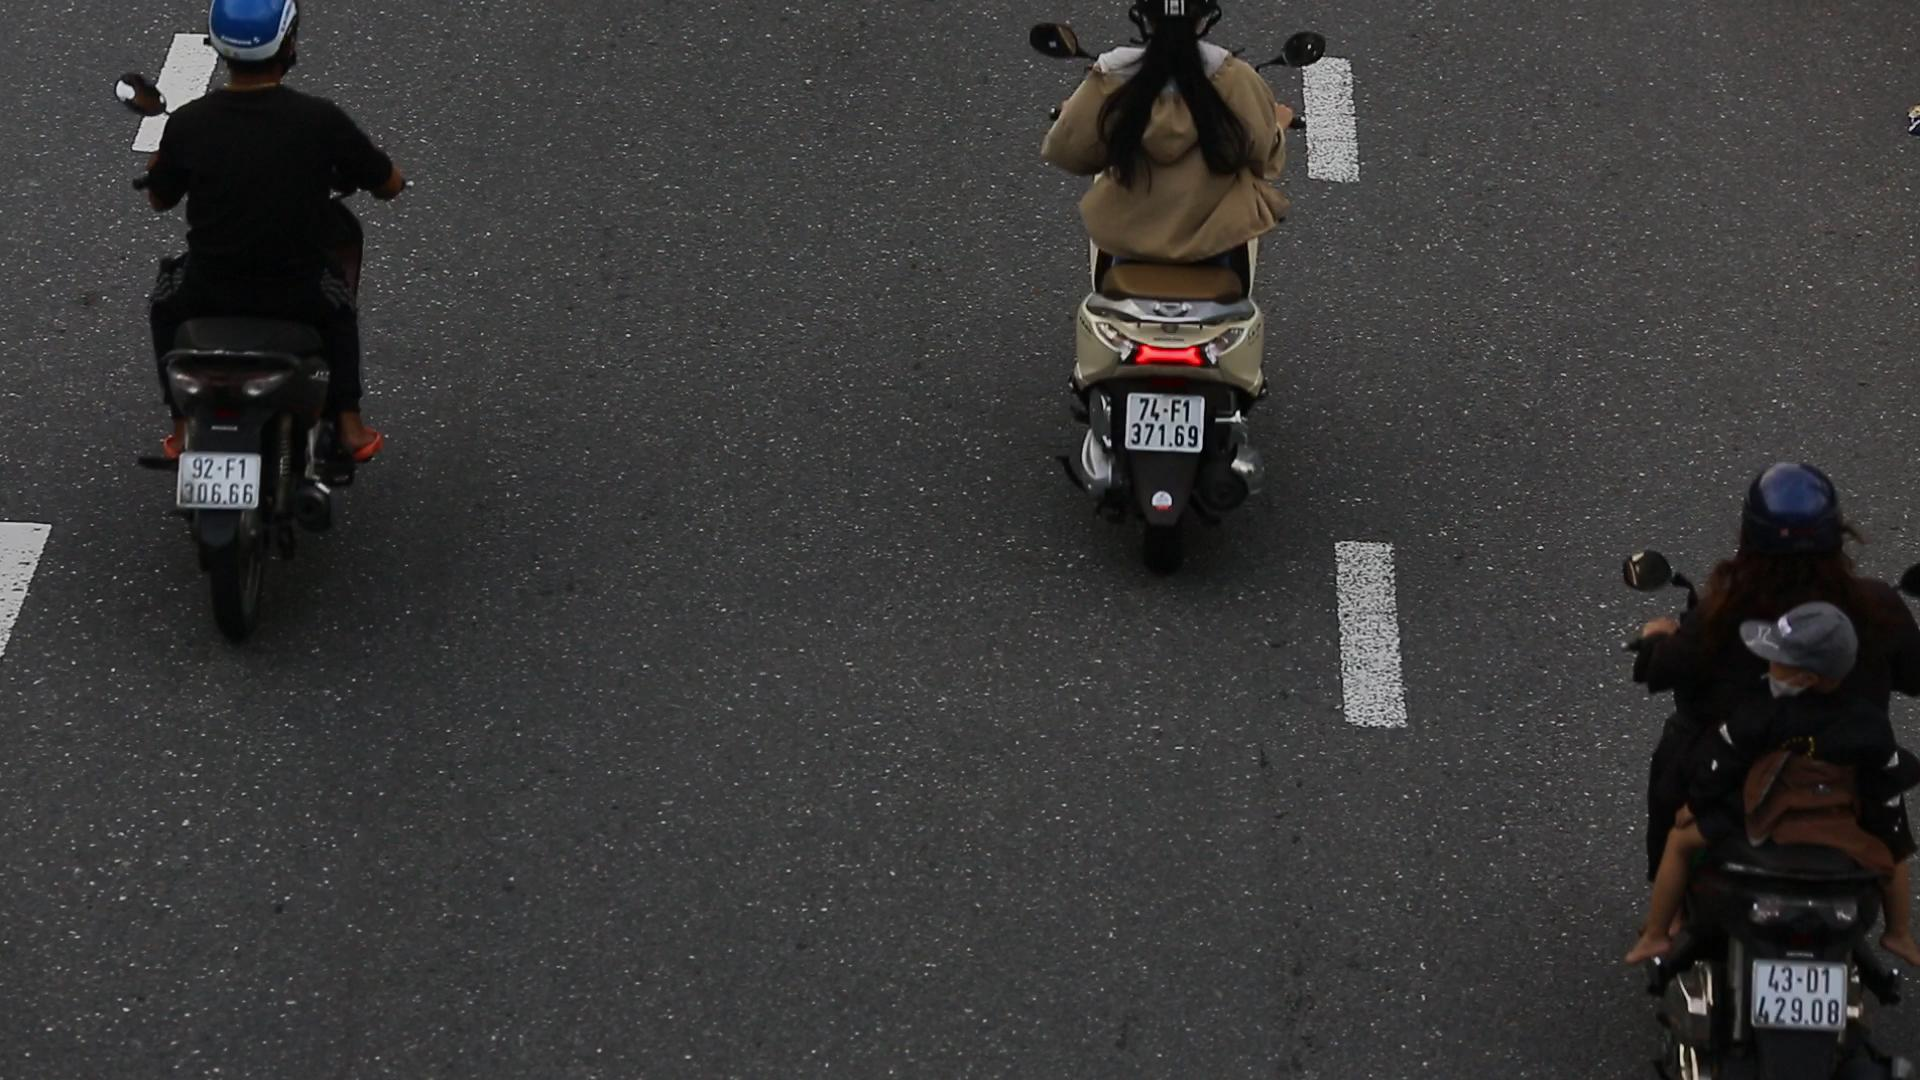motobike: (1609, 447, 1920, 1080)
